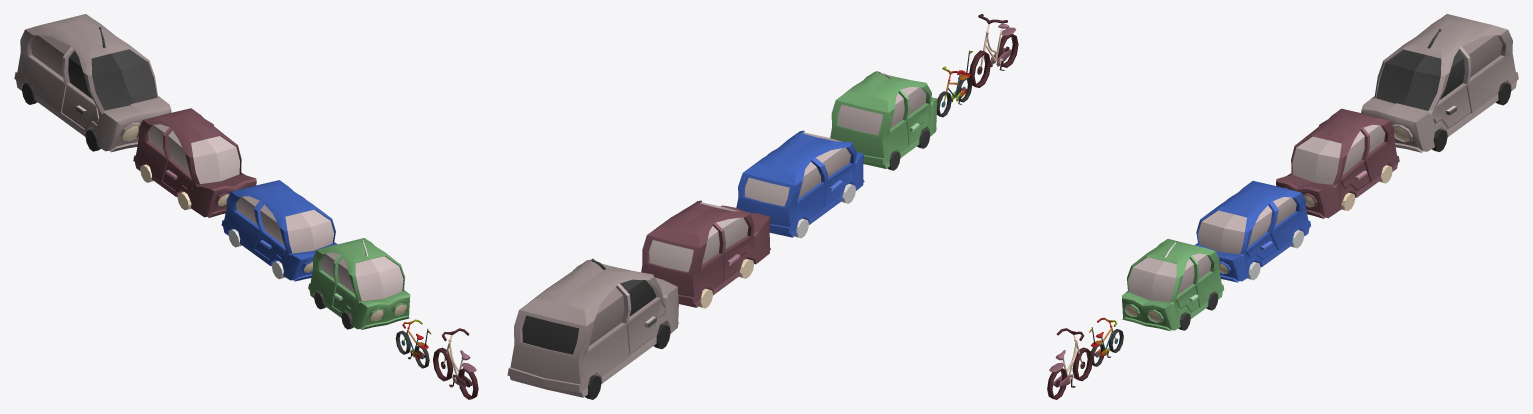
The model's file is Vehicles_Objects.fbx.
The picture shows the model from 3 angles, left to right: view 1: azimuth 30°, elevation 25°; view 2: azimuth 150°, elevation 25°; view 3: azimuth 330°, elevation 25°; orthographic projection. The views are drawn at different scales.
Visible parts, largest first — view 1: Cylinder.020, Cylinder.018, Cube.032, Cylinder.016, Cube.038, Cylinder.033; view 2: Cylinder.020, Cylinder.018, Cube.032, Cylinder.016, Cube.038, Cylinder.033; view 3: Cylinder.020, Cylinder.018, Cube.032, Cylinder.016, Cube.038, Cylinder.033.
Boxes of the visible parts, x1=… form: Cylinder.020: x1=14, y1=14, x2=171, y2=152; Cylinder.018: x1=133, y1=108, x2=256, y2=217; Cube.032: x1=221, y1=180, x2=337, y2=281; Cylinder.016: x1=308, y1=238, x2=410, y2=329; Cube.038: x1=433, y1=328, x2=478, y2=399; Cylinder.033: x1=395, y1=319, x2=431, y2=368; Cylinder.020: x1=507, y1=258, x2=679, y2=399; Cylinder.018: x1=641, y1=200, x2=770, y2=308; Cube.032: x1=736, y1=130, x2=864, y2=238; Cylinder.016: x1=830, y1=71, x2=937, y2=170; Cube.038: x1=969, y1=14, x2=1018, y2=87; Cylinder.033: x1=936, y1=50, x2=972, y2=117; Cylinder.020: x1=1361, y1=14, x2=1518, y2=152; Cylinder.018: x1=1276, y1=108, x2=1399, y2=218; Cube.032: x1=1194, y1=181, x2=1310, y2=282; Cylinder.016: x1=1122, y1=239, x2=1224, y2=331; Cube.038: x1=1047, y1=328, x2=1092, y2=399; Cylinder.033: x1=1089, y1=317, x2=1123, y2=366.
Bounding box in the file's own units: 182 × 239 × 1974.
Materials: 5 (5 with a texture image).
